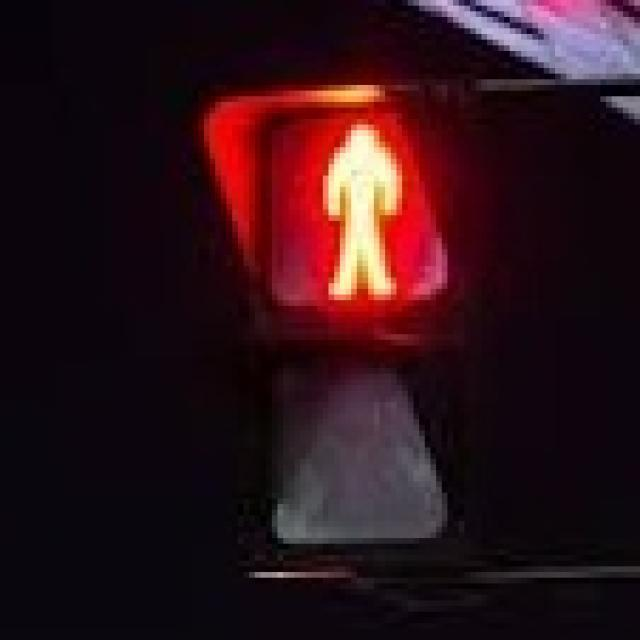red-crossing: (289, 101, 425, 312)
